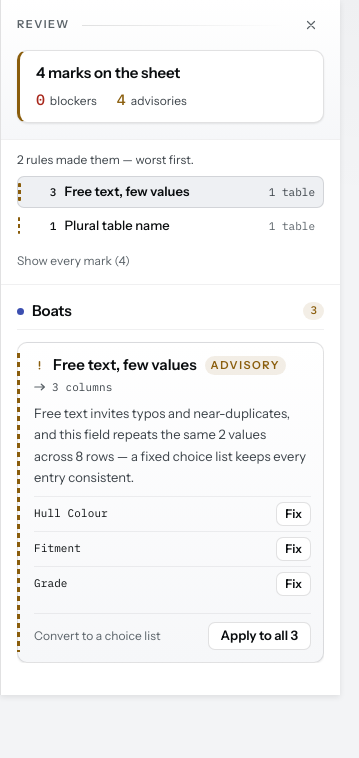
Test case: the confirm gate › asks nothing before a rename, which moves nothing
The width and height of the screenshot is (359, 758).
Click the button "1 Plural table name 1 table": click(170, 225) 17,210 -> 324,241
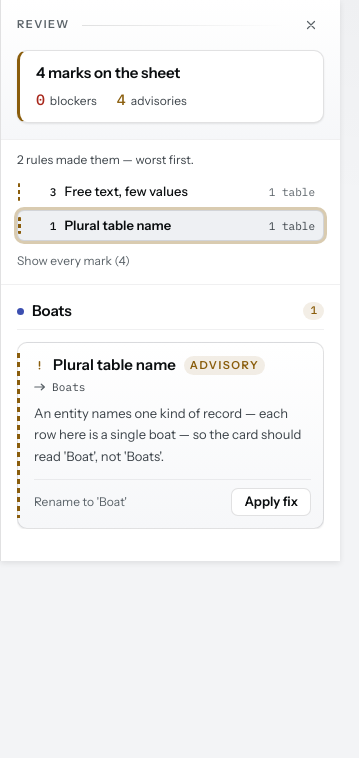
Click the button "Apply fix": click(271, 502) 231,488 -> 311,516
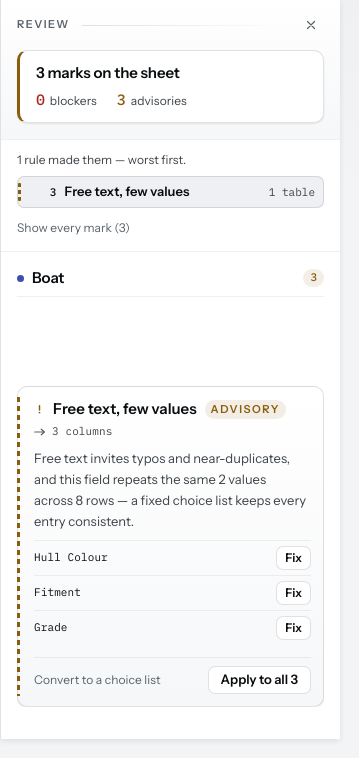
Now the heading "Boat" is shown, box 32,268 -> 64,287
